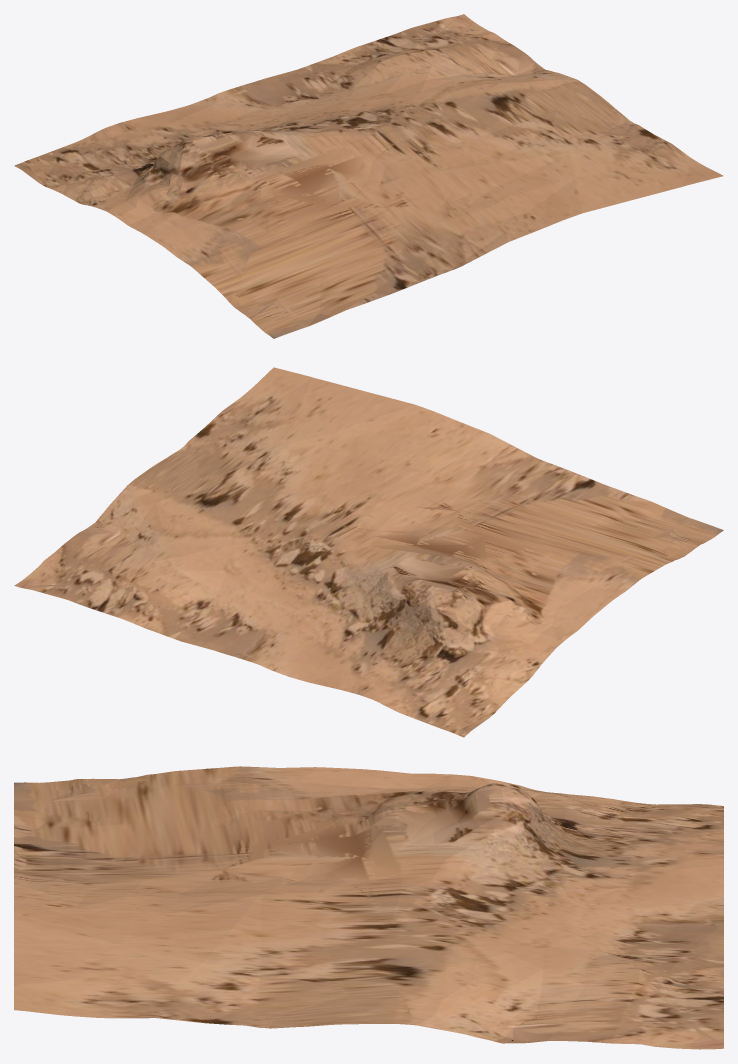
3 renders of one model, top to bottom at view 1: azimuth 30°, elevation 25°; view 2: azimuth 150°, elevation 25°; view 3: azimuth 270°, elevation 25°, orthographic. The views are drawn at different scales.
Size of the model in its own units: 2.09 by 0.3115 by 2.09.
2 materials, 2 textured.
